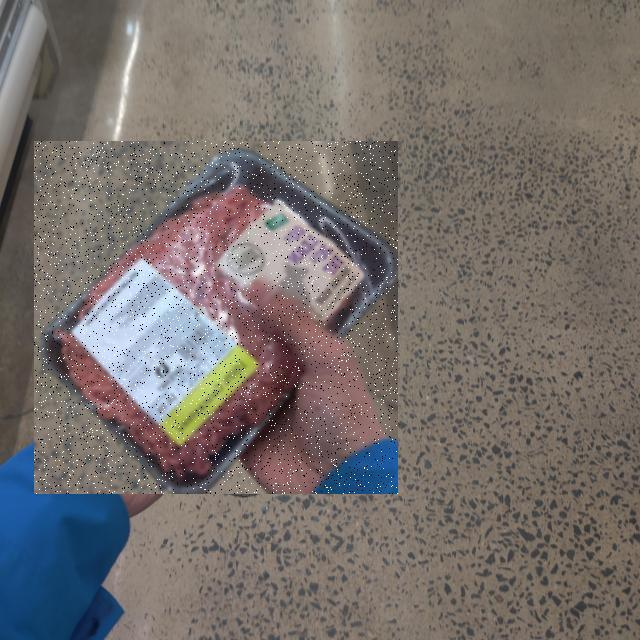Meat: (34, 141, 398, 494)
